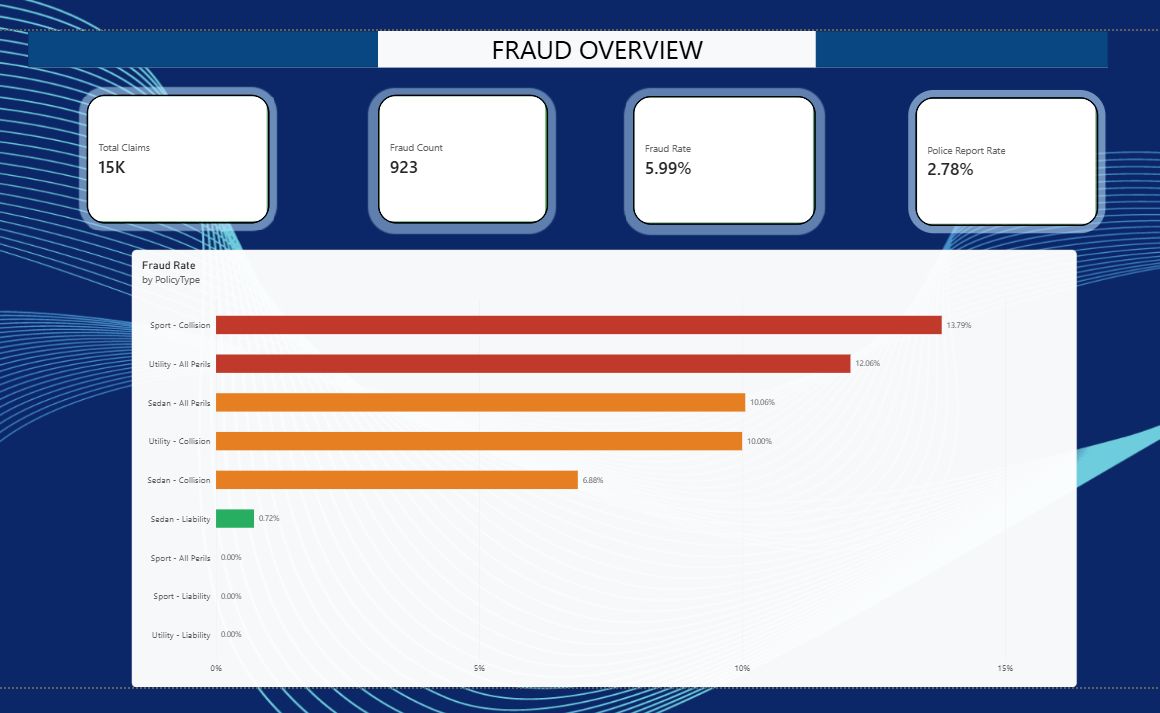

The page's visual inventory and layout, read from the dashboard file:
{"tool":"powerbi","page":{"name":"Fraud Overview","canvas":[1920,1080],"ordinal":0},"visuals":[{"type":"cardVisual","fields":{"Data":["Claims.Fraud Rate"]},"box":[1045.6,107,300.5,212],"z":1},{"type":"cardVisual","fields":{"Data":["Claims.Police Report Rate"]},"box":[1510.8,109.1,300.5,212],"z":2},{"type":"cardVisual","fields":{"Data":["Claims.Fraud Count"]},"box":[625.7,105,279.9,212],"z":3},{"type":"cardVisual","fields":{"Data":["Claims.Total Claims"]},"box":[146.1,105,300.5,212],"z":4},{"type":"clusteredBarChart","fields":{"Category":["Claims.PolicyType"],"Y":["Claims.Fraud Rate"]},"box":[220.2,360.2,1556.1,720.4],"z":5},{"type":"shape","box":[49.4,0,1778.4,59.7],"z":6},{"type":"textbox","box":[625.7,0,720.4,59.7],"z":7}]}

Visuals, with their boxes on the page's 1920x1080 design canvas (x1, y1, x2, y2). These are canvas units, not pixel positions in the 1160x713 screenshot, which may show the page scaled, cropped or inside an application window:
cardVisual - Claims.Fraud Rate: 1046 107 1346 319
cardVisual - Claims.Police Report Rate: 1511 109 1811 321
cardVisual - Claims.Fraud Count: 626 105 906 317
cardVisual - Claims.Total Claims: 146 105 447 317
clusteredBarChart - Claims.PolicyType x Claims.Fraud Rate: 220 360 1776 1081
shape: 49 0 1828 60
textbox: 626 0 1346 60
